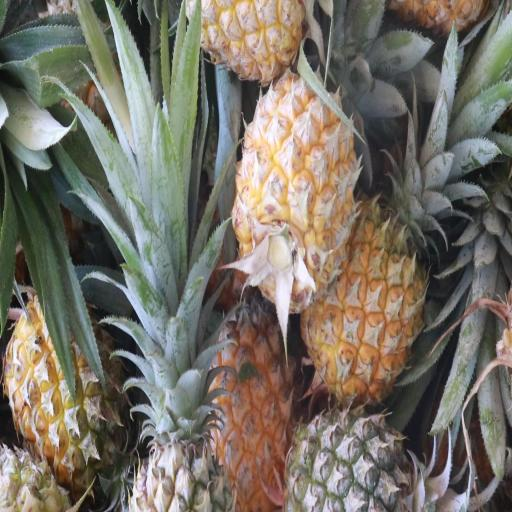------------------------------: (6, 279, 126, 471)
Pineapple - v8 v1: (236, 65, 356, 301), (306, 196, 426, 396), (208, 284, 298, 505)
